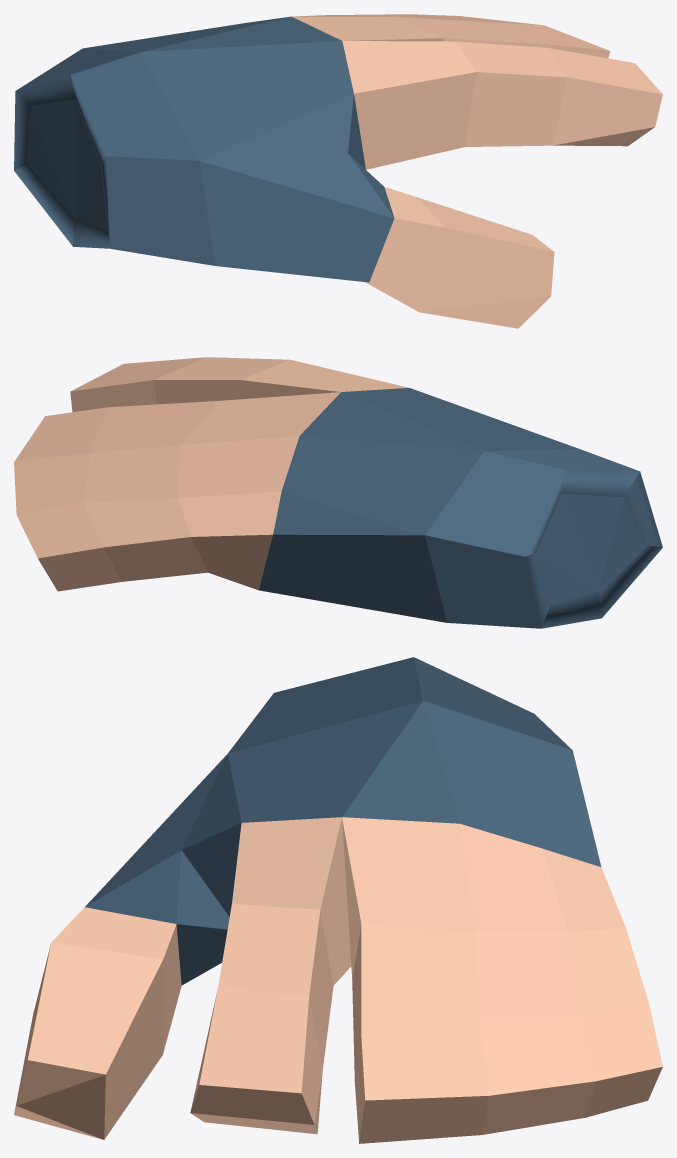
File: Chr_HandLeft_Female_08_Static.fbx
3 views of the same model, one above another, from view 1: azimuth 30°, elevation 25°; view 2: azimuth 150°, elevation 25°; view 3: azimuth 270°, elevation 25° (orthographic). The views are drawn at different scales.
Parts seen in each view (by area): view 1: Chr_HandLeft_Female_08_Static; view 2: Chr_HandLeft_Female_08_Static; view 3: Chr_HandLeft_Female_08_Static.
Part boxes in pixels (x1,y1,x2,y2): Chr_HandLeft_Female_08_Static: (14,14,662,328); Chr_HandLeft_Female_08_Static: (14,357,662,628); Chr_HandLeft_Female_08_Static: (14,657,662,1143).
Bounding box in the file's own units: 0.237 × 0.0952 × 0.188.
